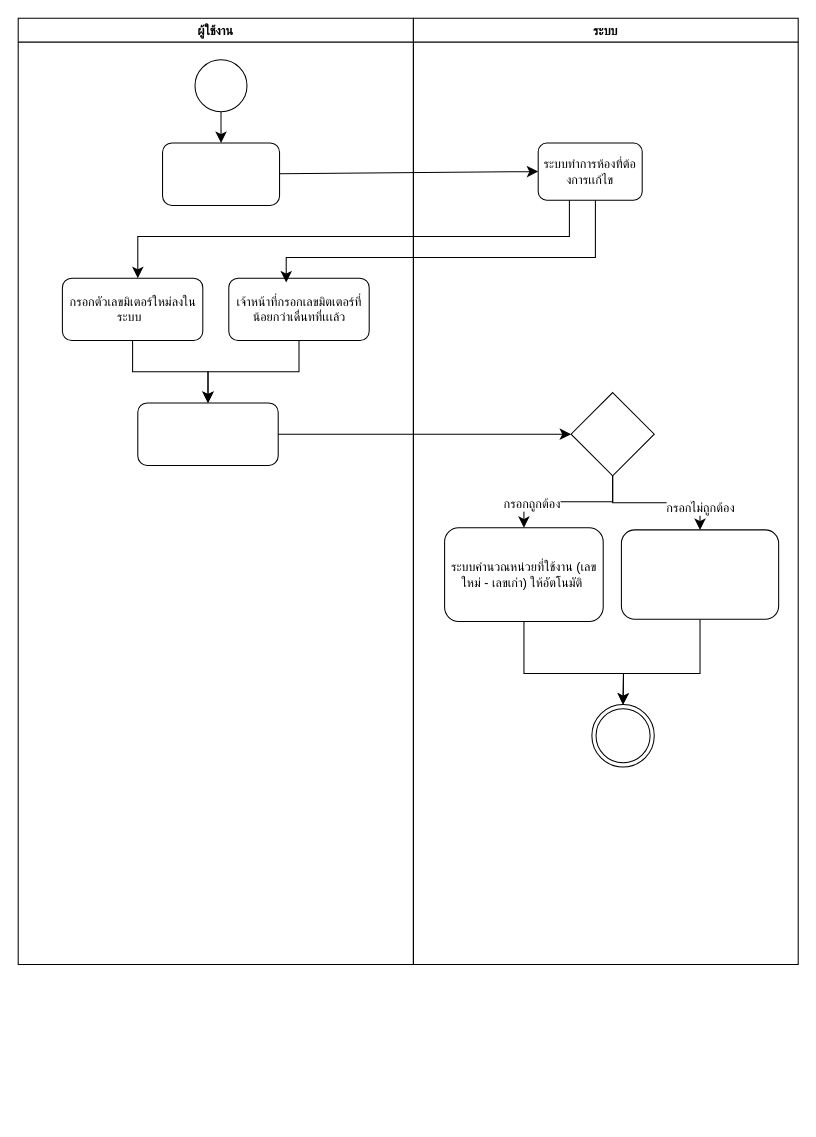
This 816x1137 diagram has some shape labels left out. Here are the shapes that lost their labels. From the top down, the centre of each, then its label:
point (221, 173): เจ้าหน้าที่เลือกเลขห้องเเละเดือน ที่ต้องการบันทึก
point (207, 433): กดปุ่ม "บันทึก"
point (699, 574): ระบบเเจ้งเตือน " ค่ากรอกไม่ถูกต้อง " เเละ ไม่อนุญาติให้บันทึก
